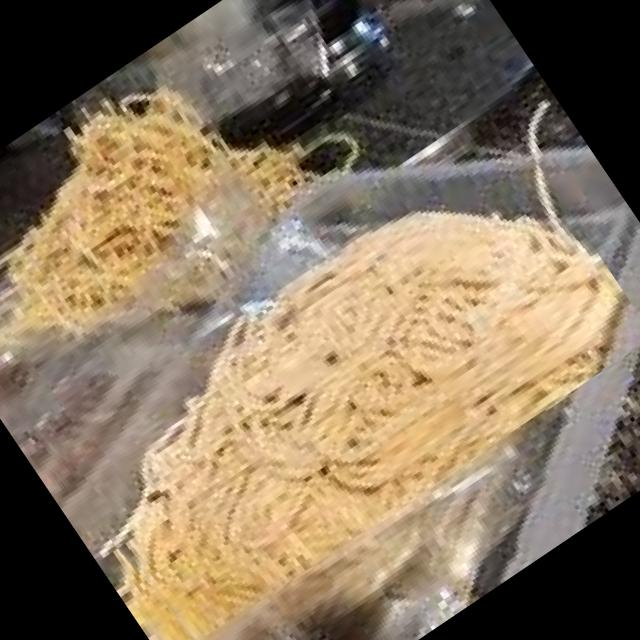Organic: (26, 115, 640, 640), (0, 0, 381, 408)
